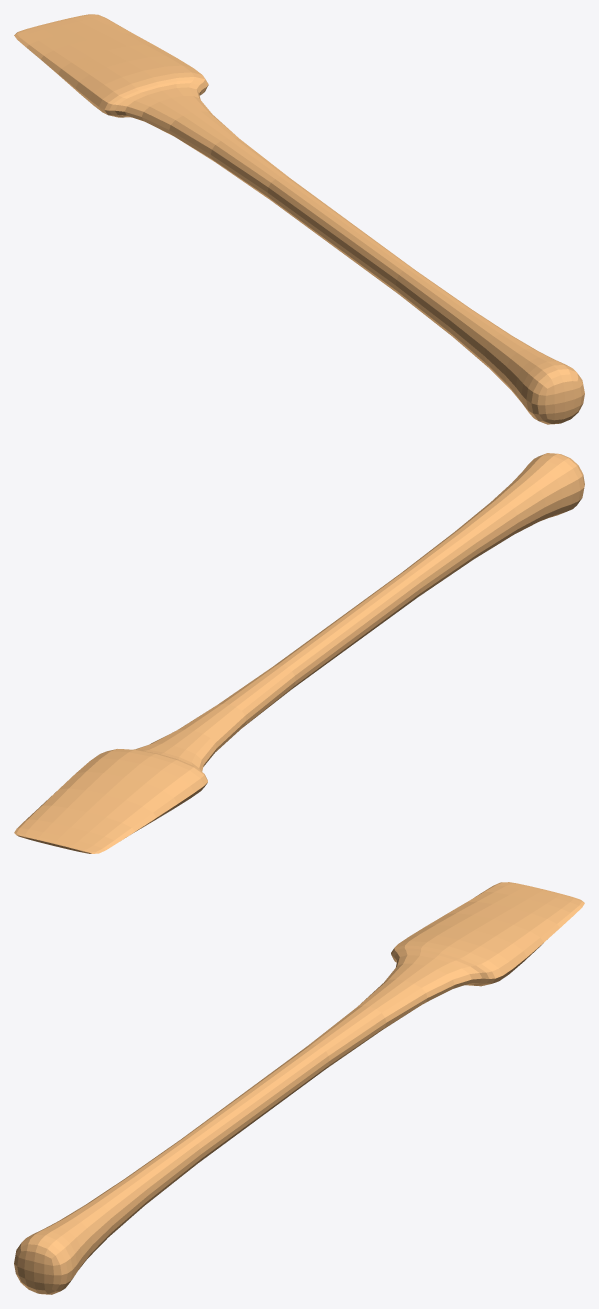
The model's file is Paddle.fbx.
3 views of the same model, one above another, from view 1: azimuth 30°, elevation 25°; view 2: azimuth 150°, elevation 25°; view 3: azimuth 330°, elevation 25° (orthographic).
Parts seen in each view (by area): view 1: Cube; view 2: Cube; view 3: Cube.
Part boxes in pixels (box(x1,y1,x2,y2)): Cube: box(14, 14, 584, 424); Cube: box(14, 453, 584, 853); Cube: box(14, 882, 584, 1294).
Bounding box in the file's own units: 113 × 55.51 × 923.
